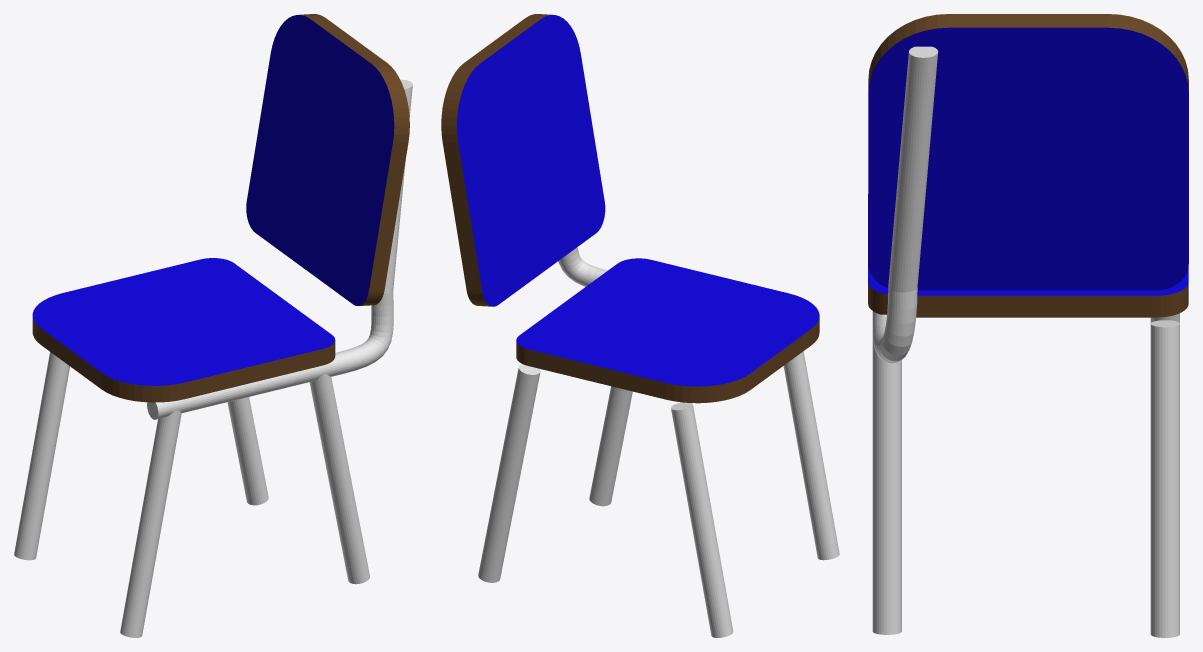
Rendered from sillaTP14-concolor.fbx.
The picture shows the model from 3 angles, left to right: view 1: azimuth 30°, elevation 25°; view 2: azimuth 150°, elevation 25°; view 3: azimuth 270°, elevation 25°; orthographic projection. The views are drawn at different scales.
Visible parts, largest first — view 1: Cube.005, Cube.004, Cylinder.007, Cylinder.008, Cylinder.011, Cylinder.009, Cylinder.010; view 2: Cube.005, Cube.004, Cylinder.009, Cylinder.010, Cylinder.008, Cylinder.011, Cylinder.007; view 3: Cube.005, Cylinder.007, Cylinder.010, Cube.004, Cylinder.011.
Boxes of the visible parts, x1,y1,x2,y2 form: Cube.005: (246, 14, 409, 305); Cube.004: (32, 258, 335, 402); Cylinder.007: (147, 79, 412, 419); Cylinder.008: (120, 410, 181, 637); Cylinder.011: (309, 374, 369, 584); Cylinder.009: (14, 352, 69, 560); Cylinder.010: (227, 397, 268, 505); Cube.005: (441, 14, 605, 306); Cube.004: (516, 258, 819, 403); Cylinder.009: (671, 402, 733, 637); Cylinder.010: (478, 364, 540, 582); Cylinder.008: (783, 351, 839, 560); Cylinder.011: (589, 386, 632, 506); Cylinder.007: (558, 247, 607, 286); Cube.005: (868, 14, 1188, 290); Cylinder.007: (872, 46, 938, 363); Cylinder.010: (1150, 320, 1179, 637); Cube.004: (868, 194, 1188, 317); Cylinder.011: (872, 335, 901, 634).
Bounding box in the file's own units: 671 × 1037 × 469.
